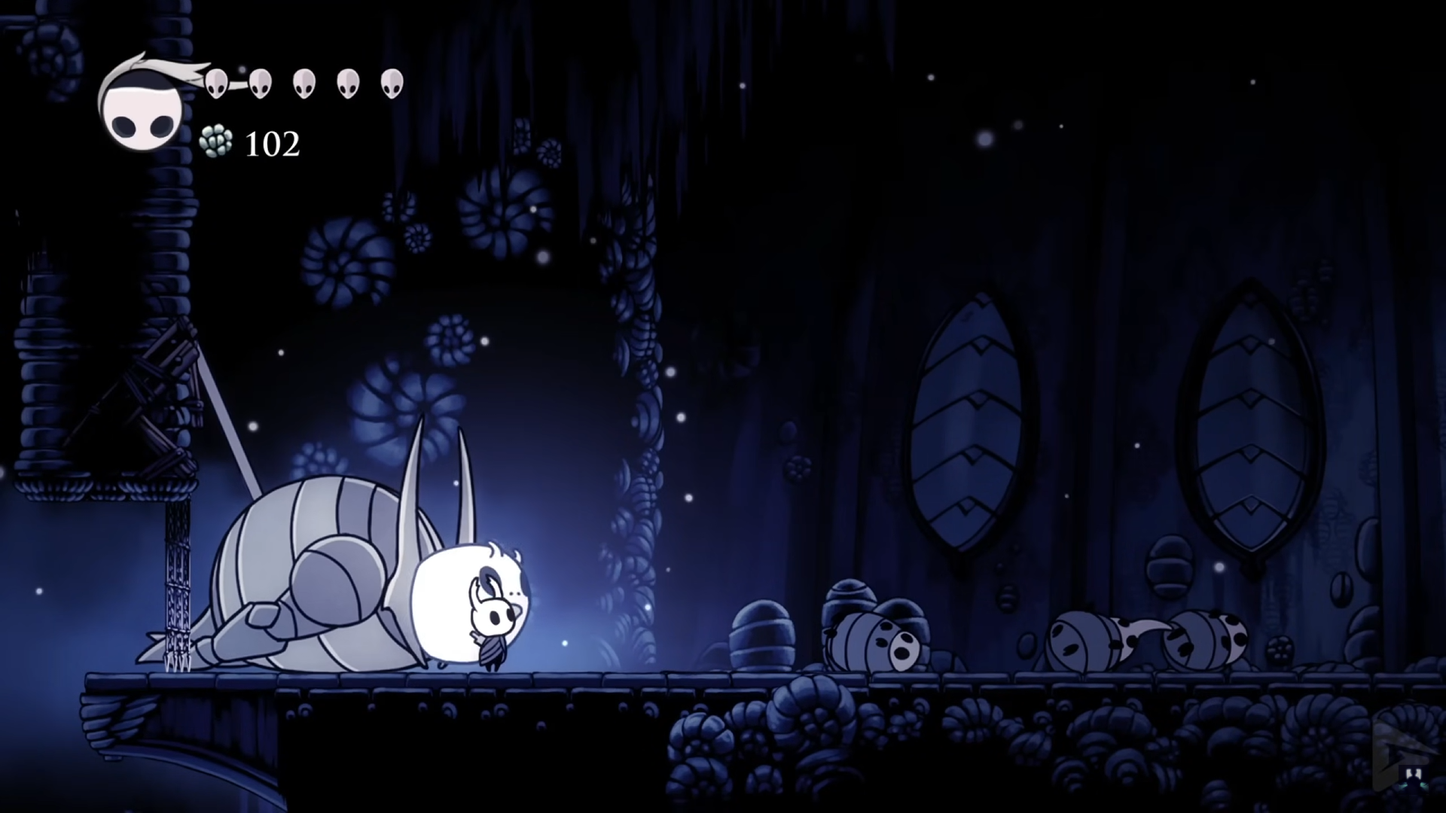HK: (466, 568, 532, 674)
